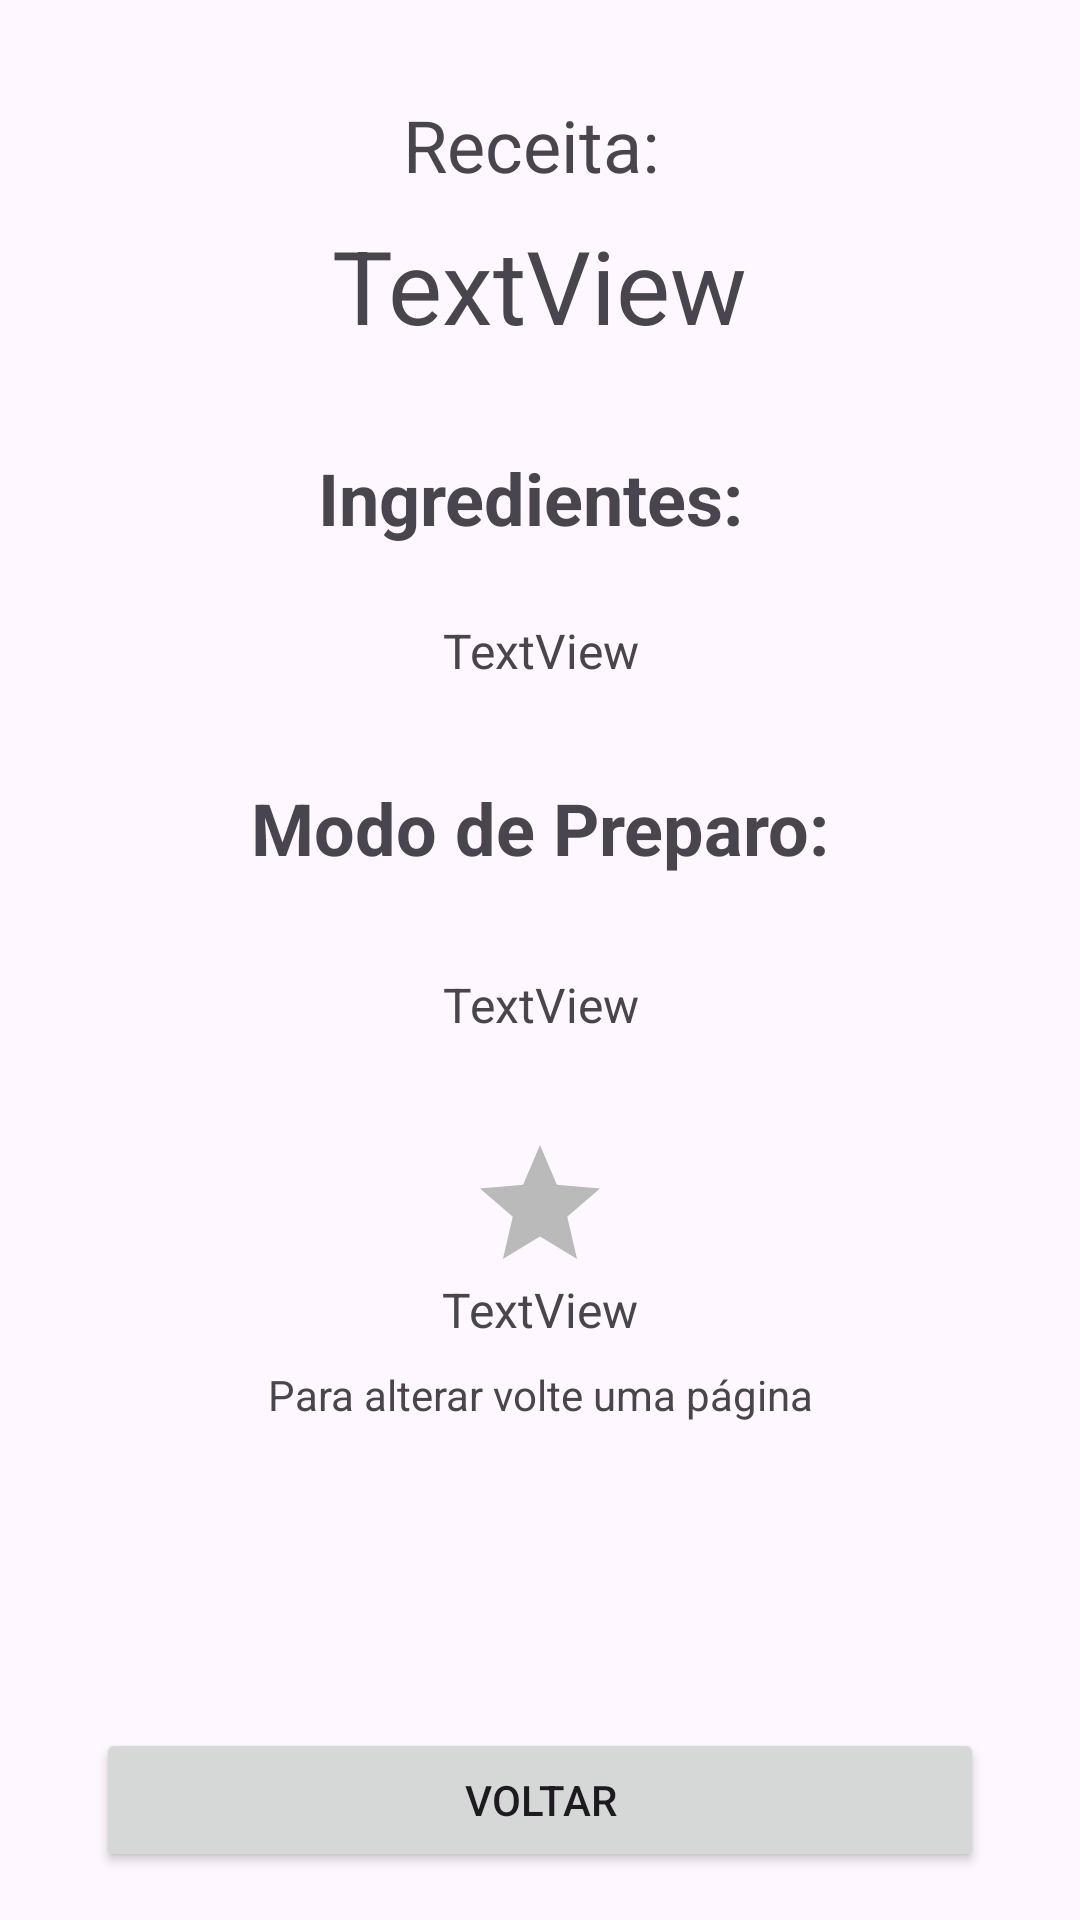

Where icons sit on this 1080x1920 app screen, as (x1, y1, x2, y2):
falsestar: (480, 1146, 600, 1259)
